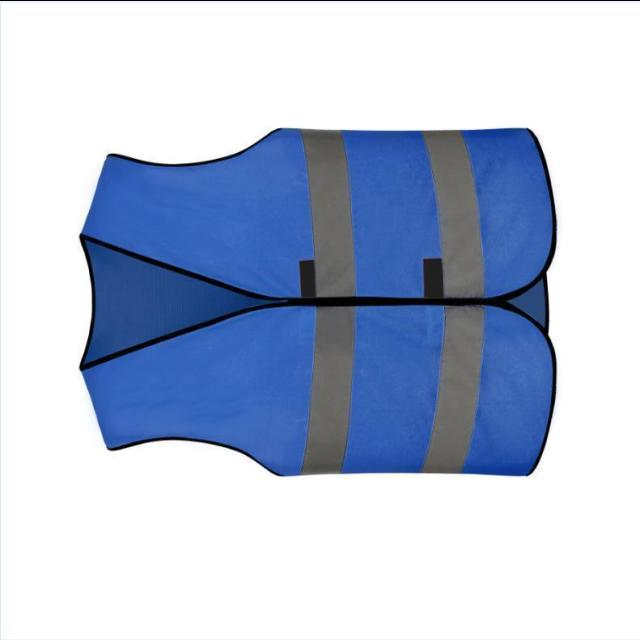jacket: (59, 112, 565, 488)
